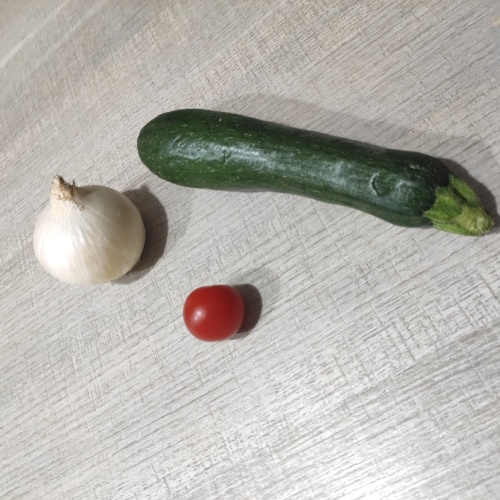cipolla: (27, 176, 149, 304)
pomodoro: (186, 273, 253, 350)
zucchine: (136, 101, 486, 251)
